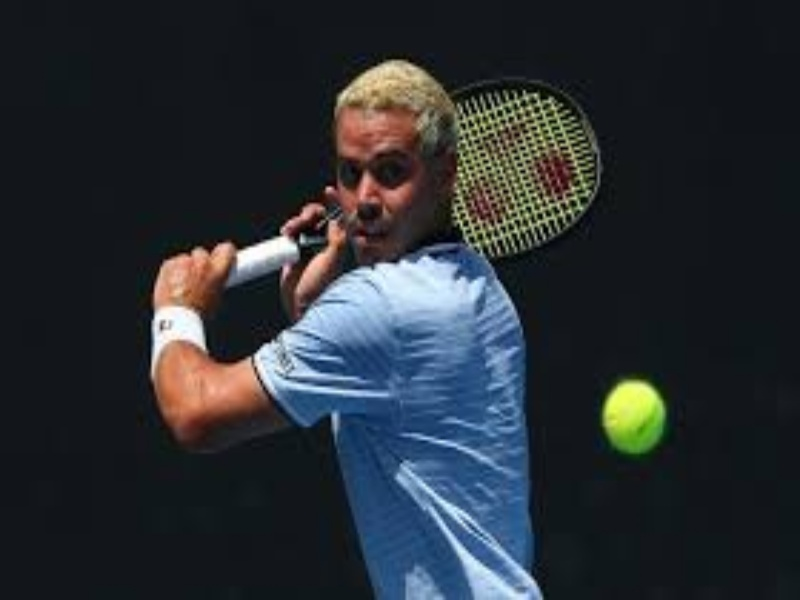tennis ball: (593, 369, 700, 472)
